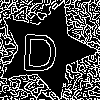D: (20, 24, 60, 72)
